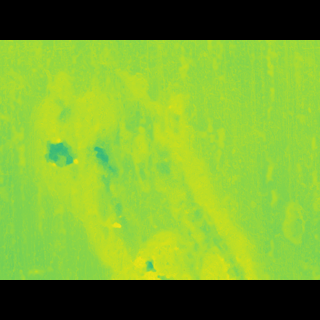Loch: (0, 90, 258, 251)
